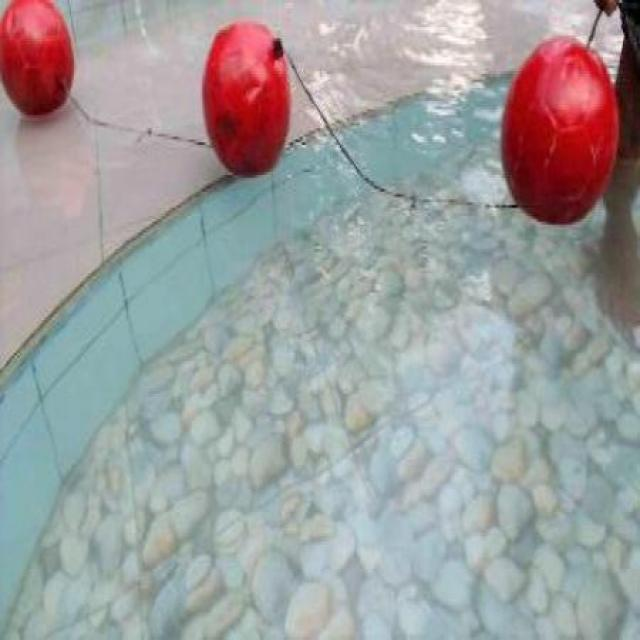buoy: (500, 36, 618, 228), (201, 18, 291, 174), (1, 0, 73, 115)
